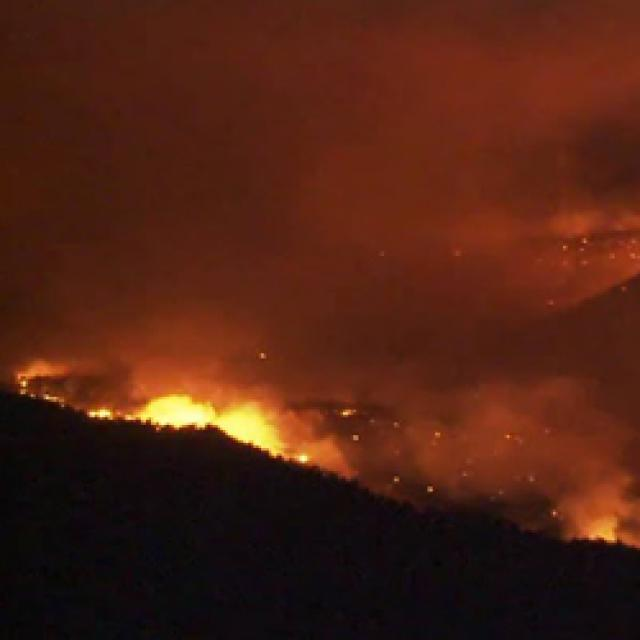Fire: (109, 368, 302, 471), (0, 332, 174, 430), (522, 490, 640, 570)
Smoke: (0, 0, 640, 292), (396, 355, 640, 548), (296, 352, 472, 512), (67, 290, 261, 432)
